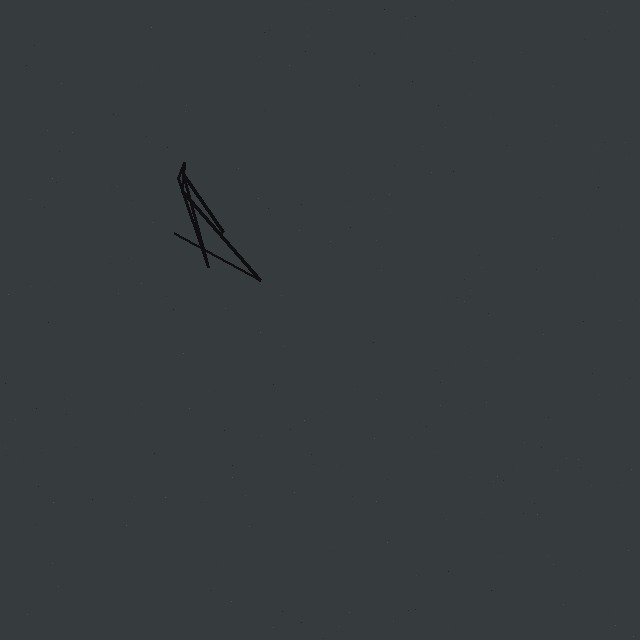crocodile_crack: (170, 126, 286, 317)
